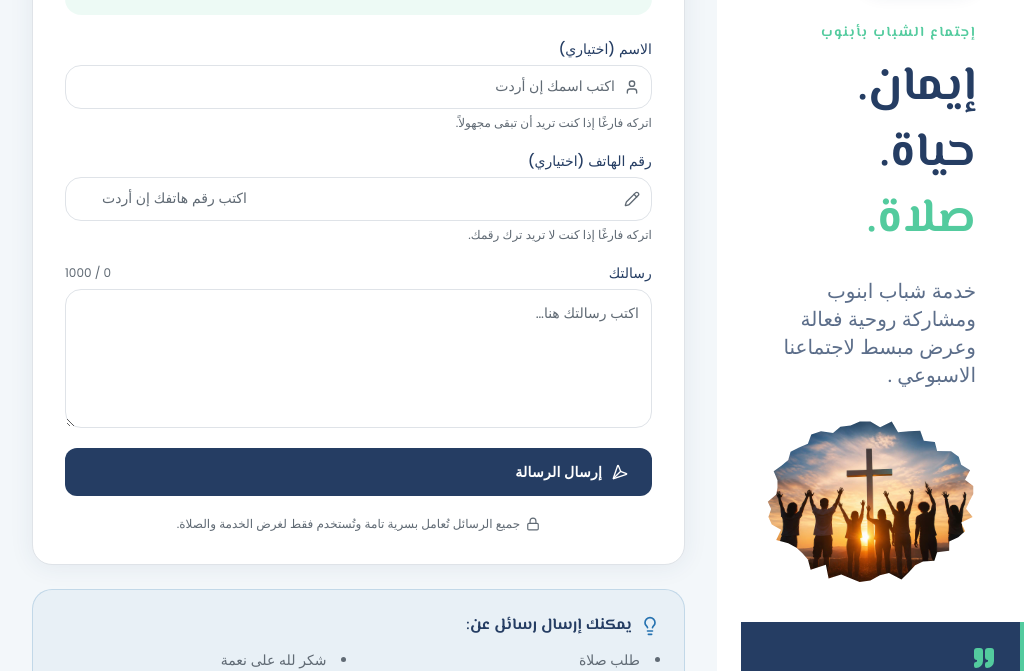
Test case: AnonymousMessagePage › surfaces the rate-limit message on a 429
(page scrolled)
In the text box labelled "رسالتك": [358, 358] box [65,288,652,428], type "One more prayer request for today."
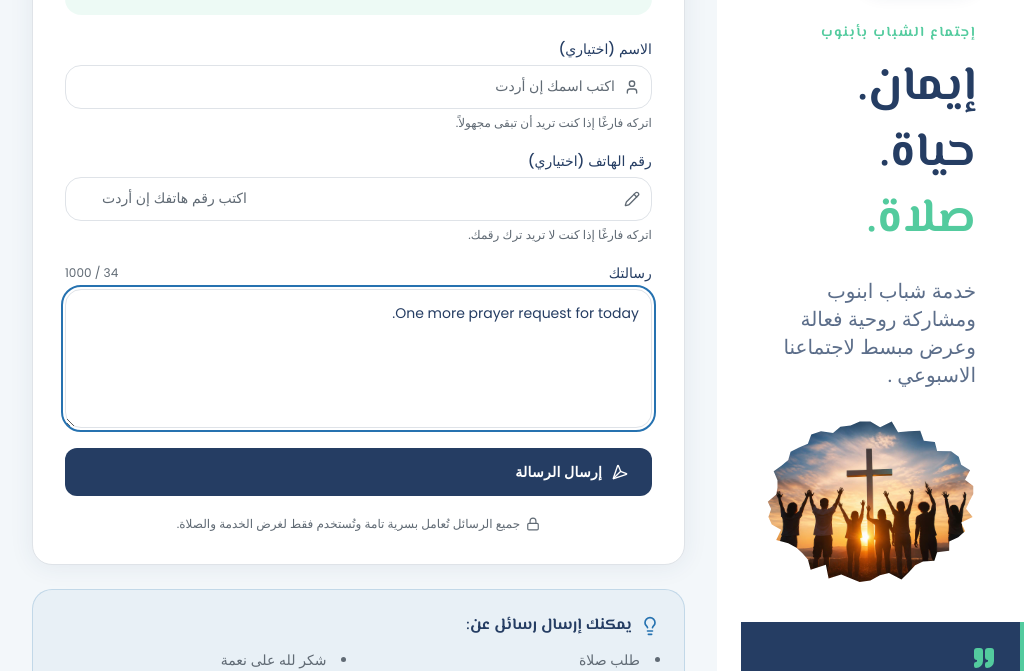
Click the button "إرسال الرسالة": [559, 472] box [65,448,652,496]
(page scrolled)
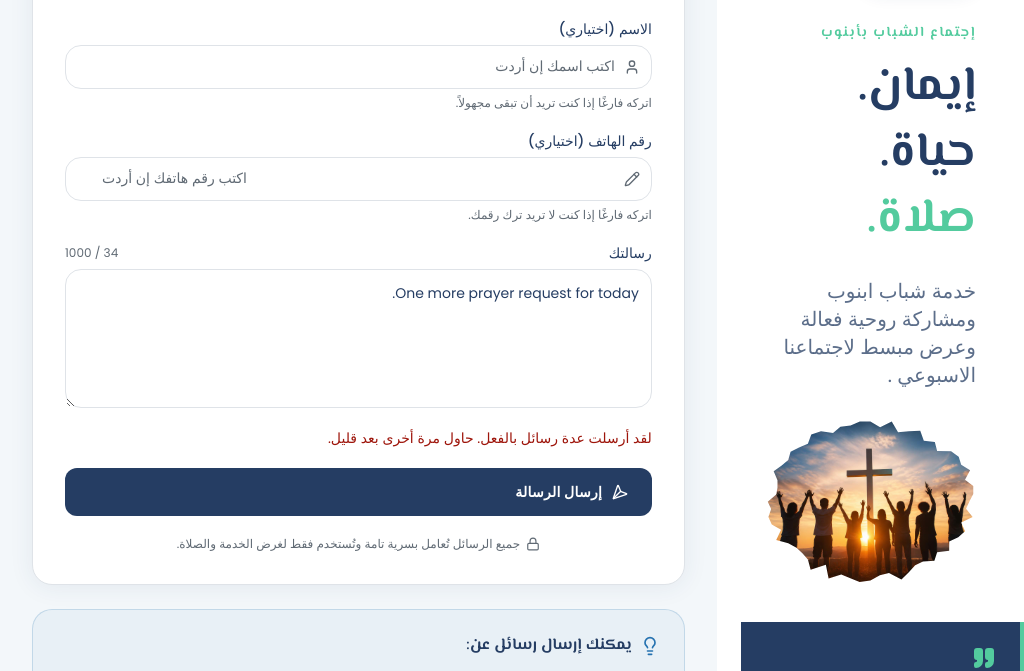
Expected: the text "لقد أرسلت عدة رسائل بالفعل. حاول مرة أخرى بعد قليل." is shown, [328,428,652,448]
